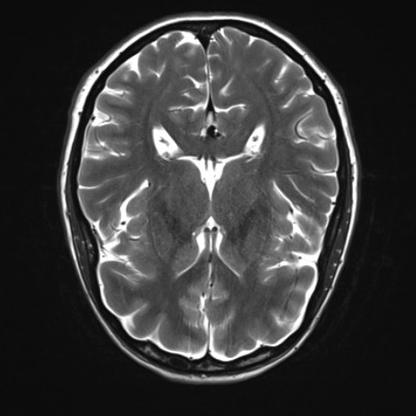Normal_Brain: (1, 1, 416, 416)
